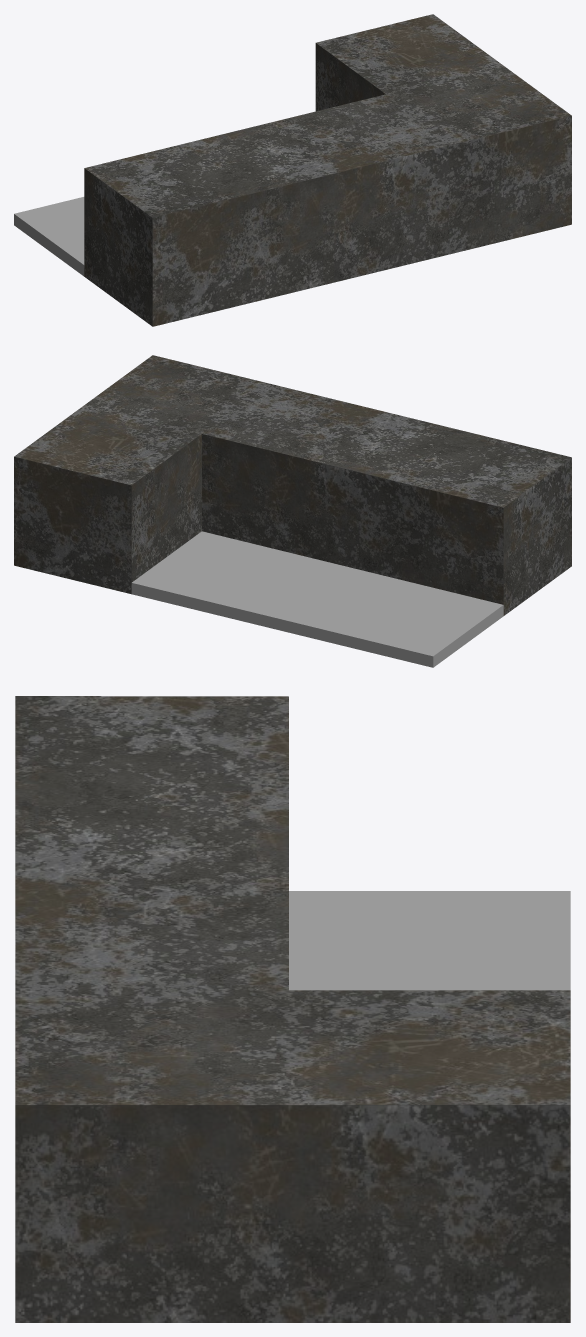
Rendered from SewerRoom4.fbx.
3 renders of one model, top to bottom at view 1: azimuth 30°, elevation 25°; view 2: azimuth 150°, elevation 25°; view 3: azimuth 270°, elevation 25°, orthographic. The views are drawn at different scales.
Visible parts, largest first — view 1: SewerRoom4; view 2: SewerRoom4; view 3: SewerRoom4.
Boxes of the visible parts, bbox=[...] form: SewerRoom4: bbox=[14, 14, 571, 326]; SewerRoom4: bbox=[14, 355, 571, 667]; SewerRoom4: bbox=[15, 696, 570, 1322].
Bounding box in the file's own units: 8.02 × 1.99 × 4.6.
2 materials, 1 textured.
